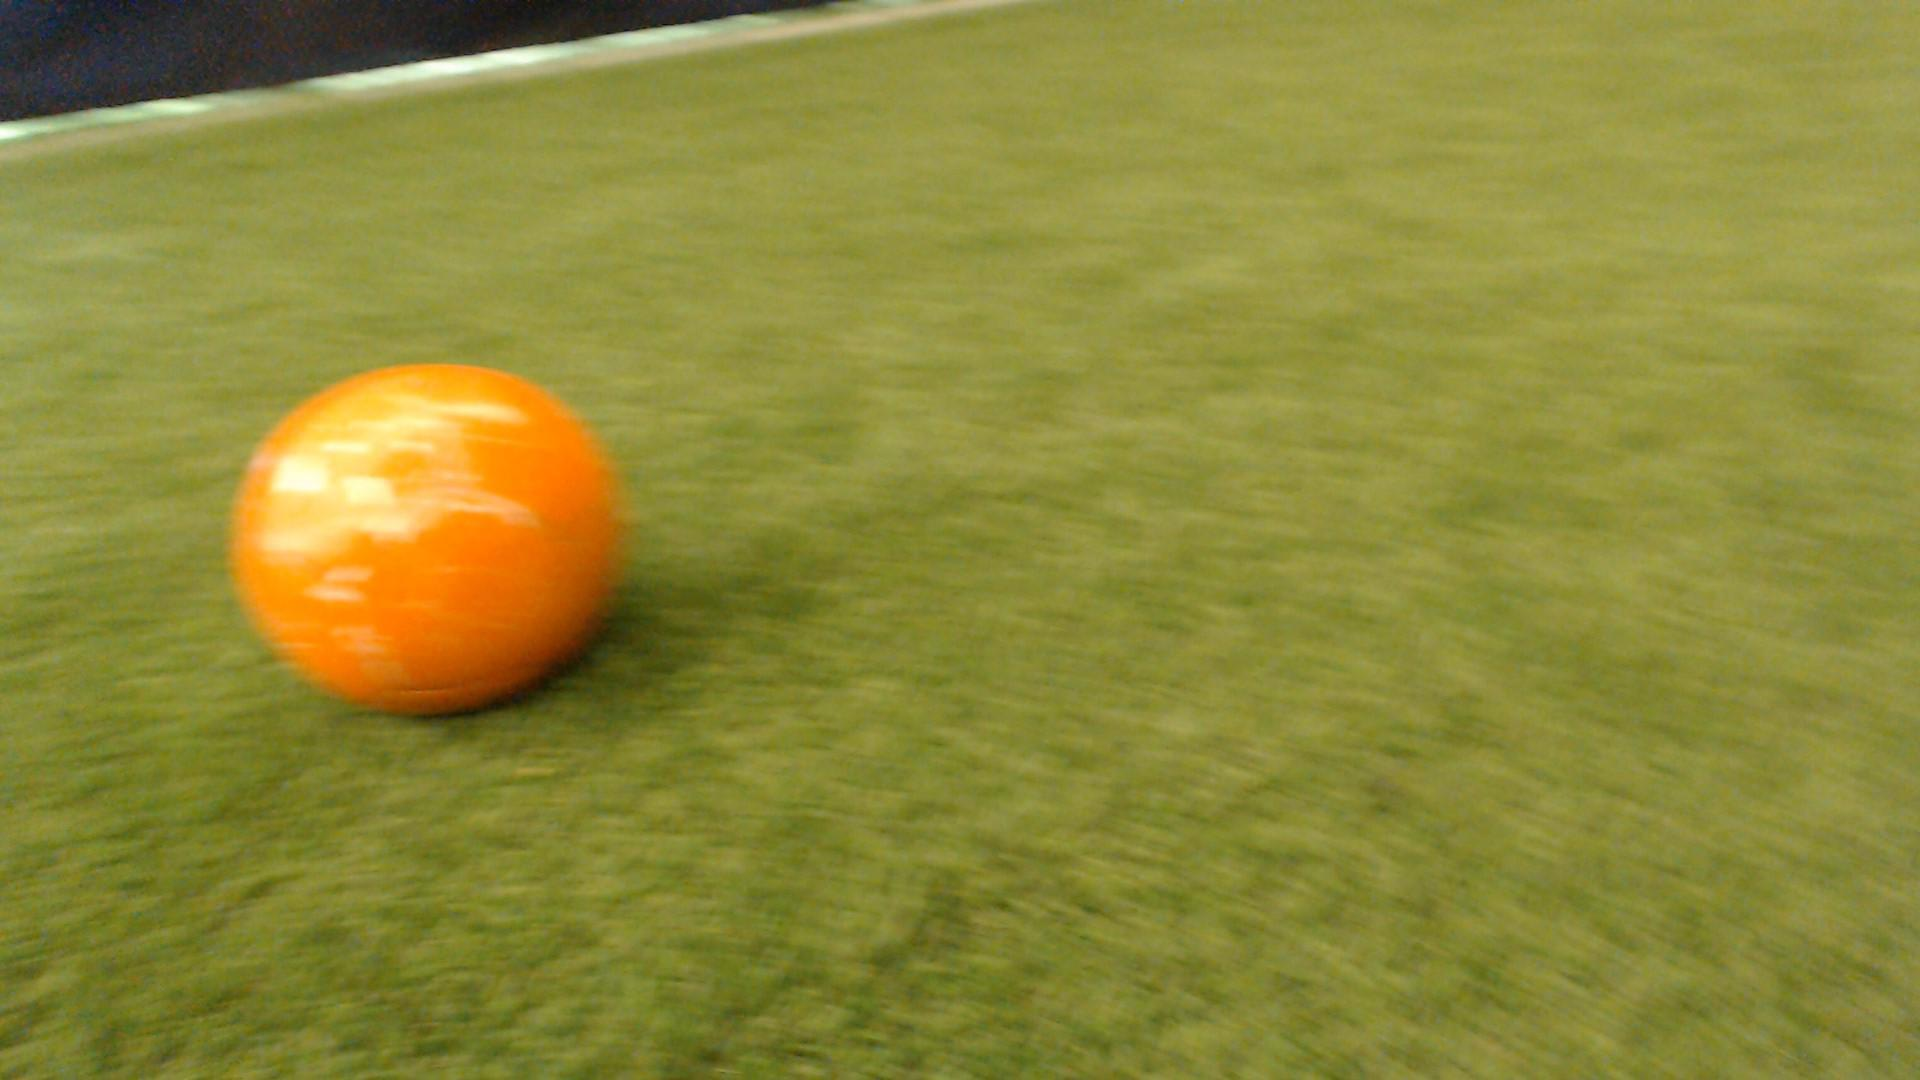bola: (174, 335, 651, 770)
